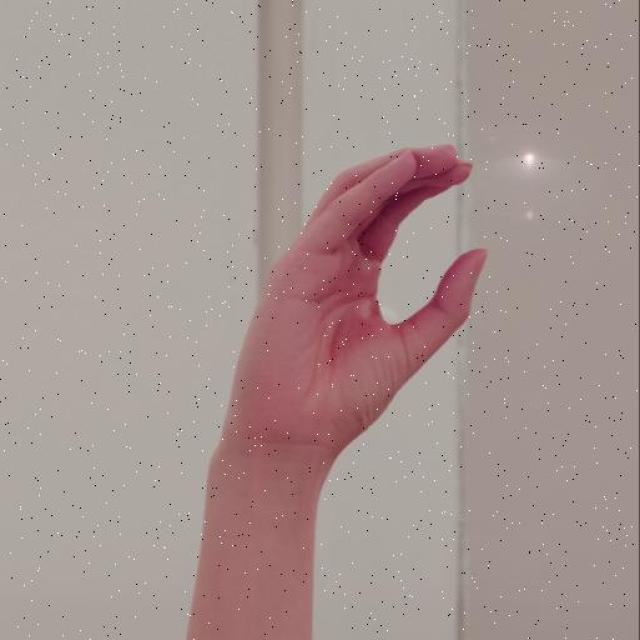C: (223, 136, 488, 456)
